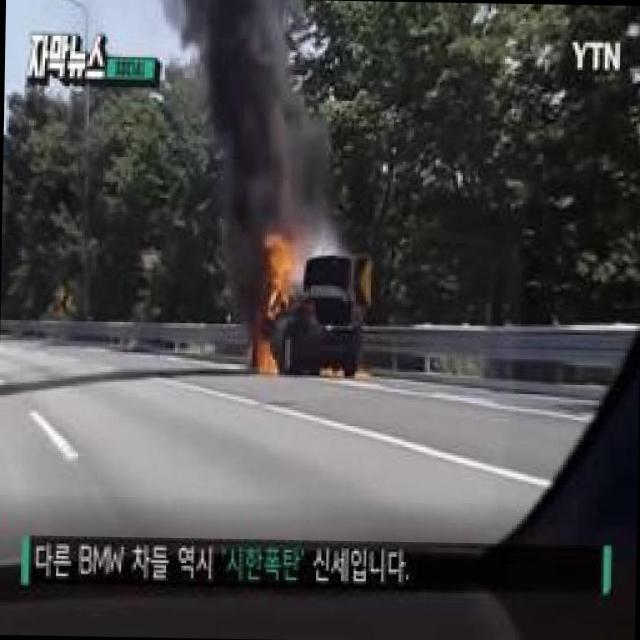Fire: (254, 254, 298, 378)
Smoke: (166, 0, 352, 255)
